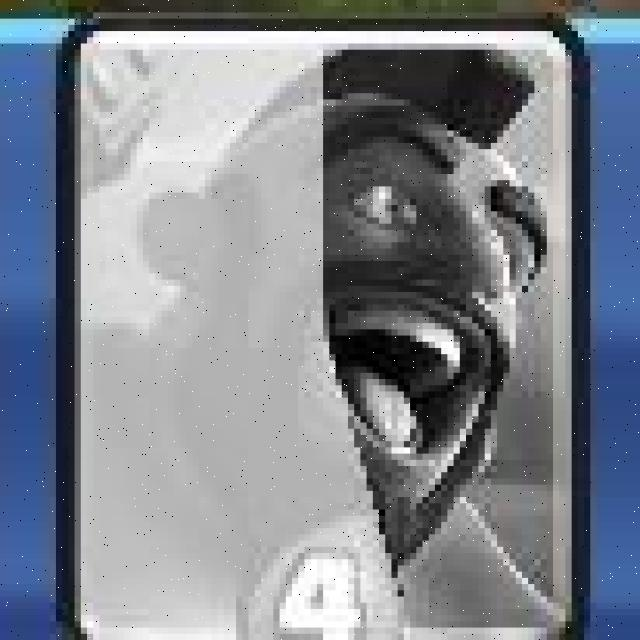Hog_Rider: (62, 10, 589, 640)
